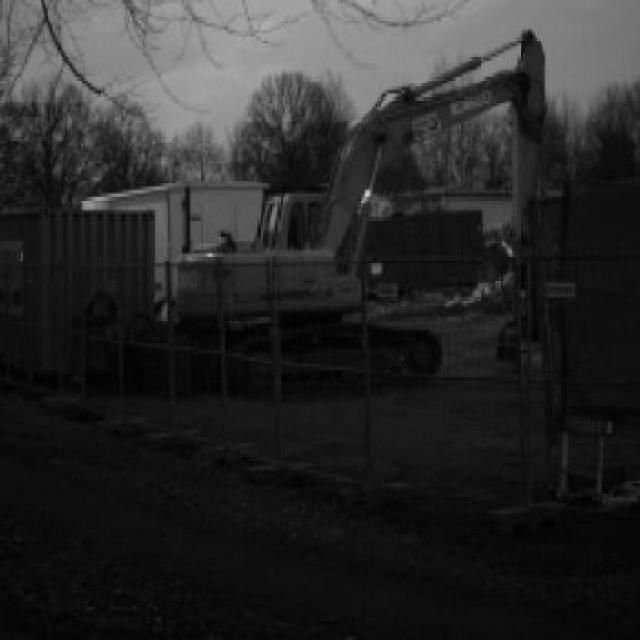Construction Equipment: (179, 29, 549, 397)
